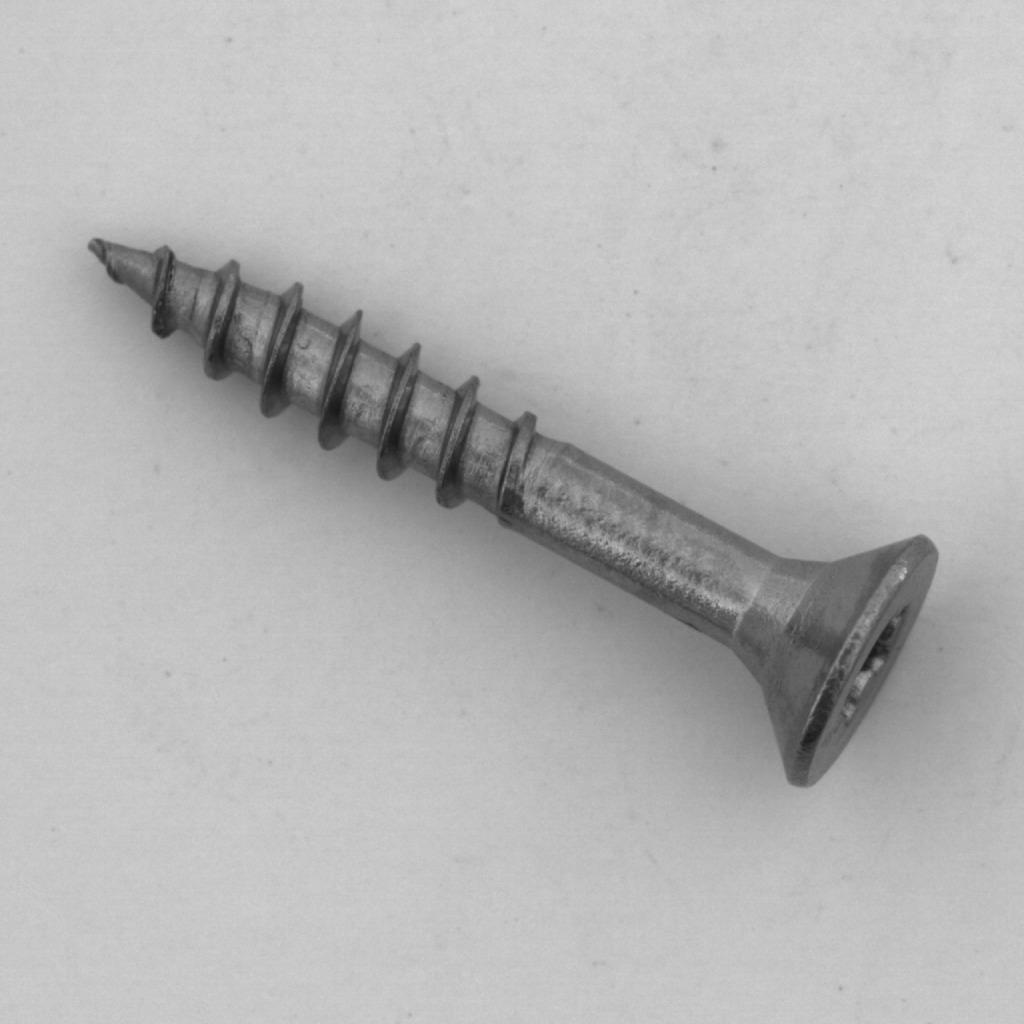good: (75, 220, 958, 807)
